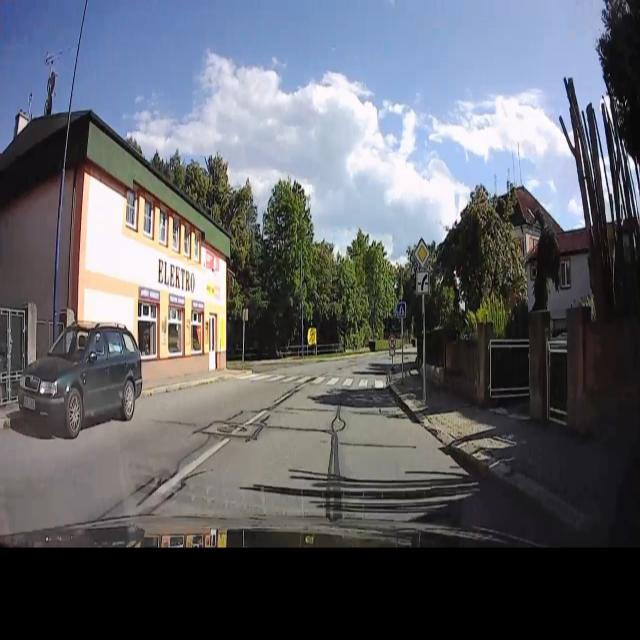Pedestrian crosswalk: (237, 373, 386, 391), (397, 303, 405, 317)
